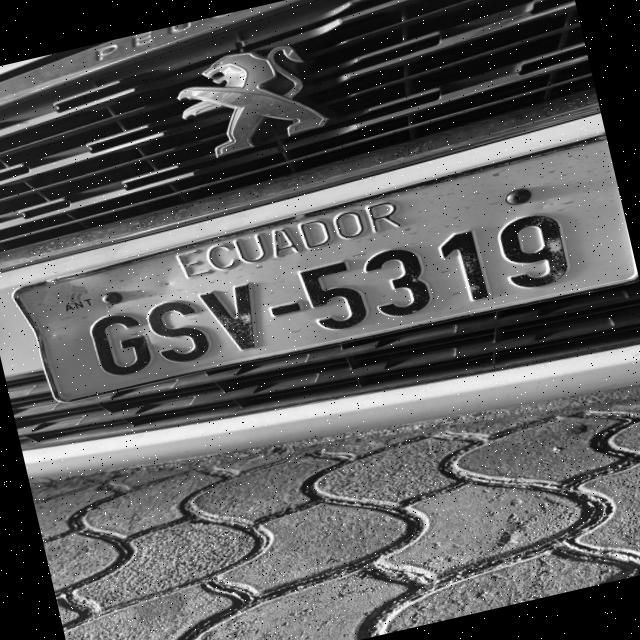Placa: (15, 141, 636, 401)
